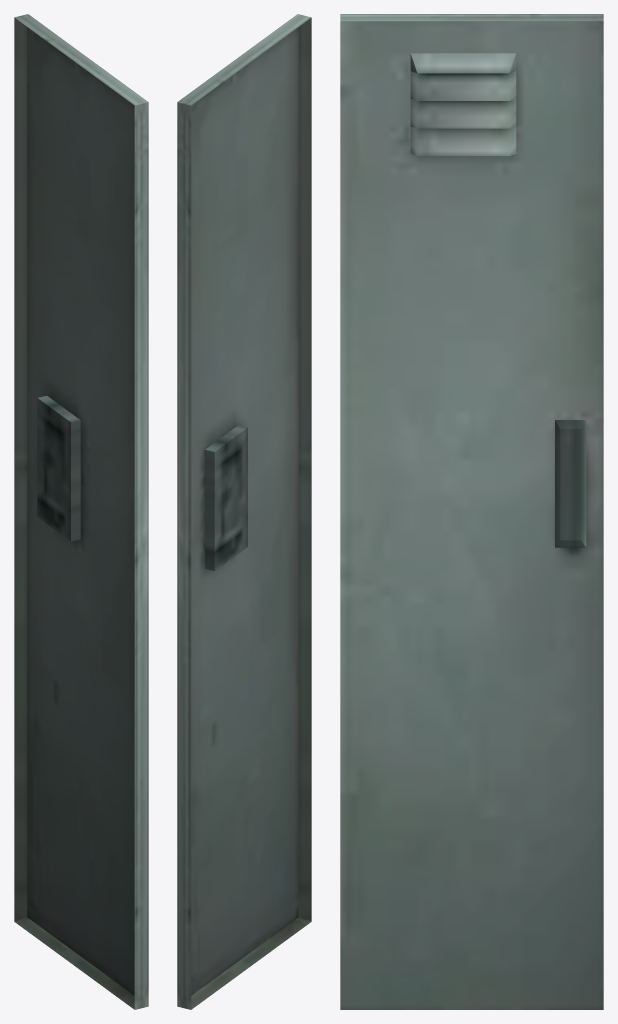
File: lockerdoorleft.glb
3 views of the same model, side by side, from view 1: azimuth 30°, elevation 25°; view 2: azimuth 150°, elevation 25°; view 3: azimuth 270°, elevation 25° (orthographic). The views are drawn at different scales.
Parts seen in each view (by area): view 1: 0_lockers_sheet; view 2: 0_lockers_sheet; view 3: 0_lockers_sheet.
Boxes of the visible parts, left/top/right/bottom form: 0_lockers_sheet: left=14, top=14, right=148, bottom=1009; 0_lockers_sheet: left=177, top=14, right=311, bottom=1009; 0_lockers_sheet: left=340, top=14, right=603, bottom=1009.
Size of the model in its own units: 0.0397 by 1.57 by 0.3804.
Materials: 1 (1 with a texture image).
